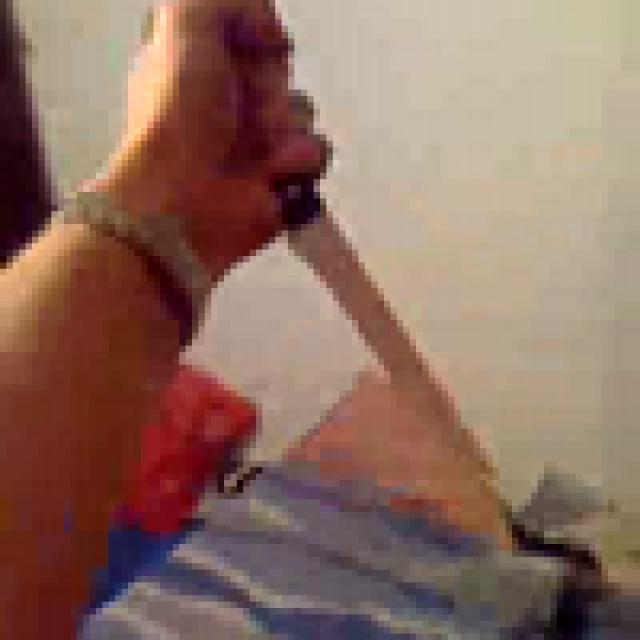Knife: (154, 6, 518, 493)
